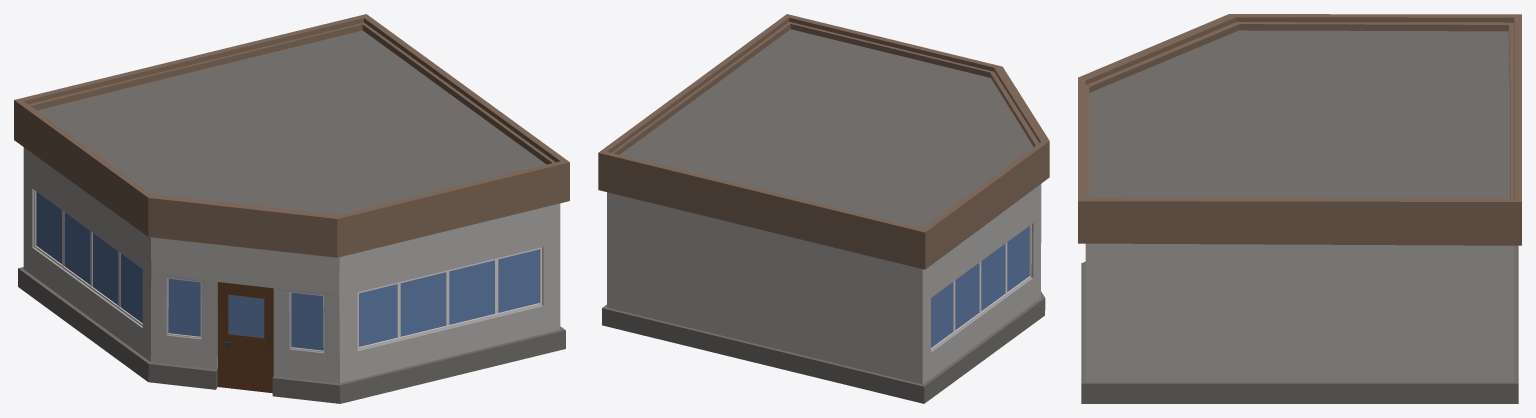
File: House_17.fbx
3 renders of one model, left to right at view 1: azimuth 30°, elevation 25°; view 2: azimuth 150°, elevation 25°; view 3: azimuth 270°, elevation 25°, orthographic. The views are drawn at different scales.
Visible parts, largest first — view 1: House_17; view 2: House_17; view 3: House_17.
Part boxes in pixels (x1,y1,x2,y2): House_17: [14, 14, 569, 403]; House_17: [598, 14, 1049, 403]; House_17: [1078, 14, 1521, 403].
Bounding box in the file's own units: 14.11 × 7.16 × 14.11.
